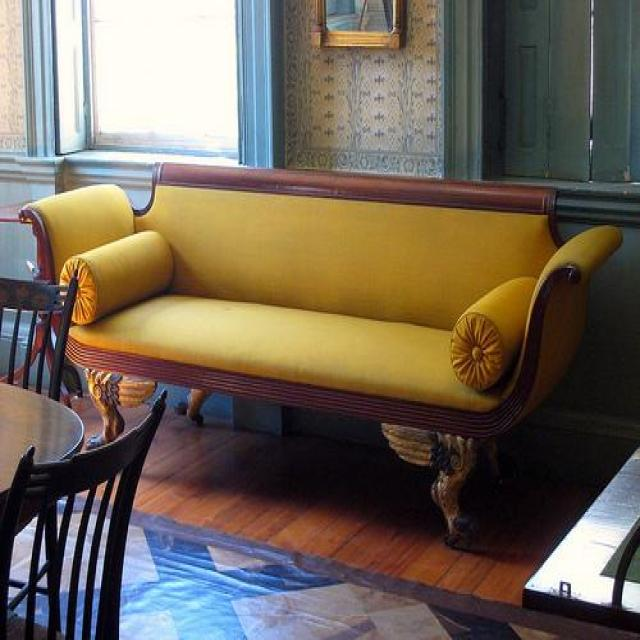sofa: (17, 157, 622, 550)
